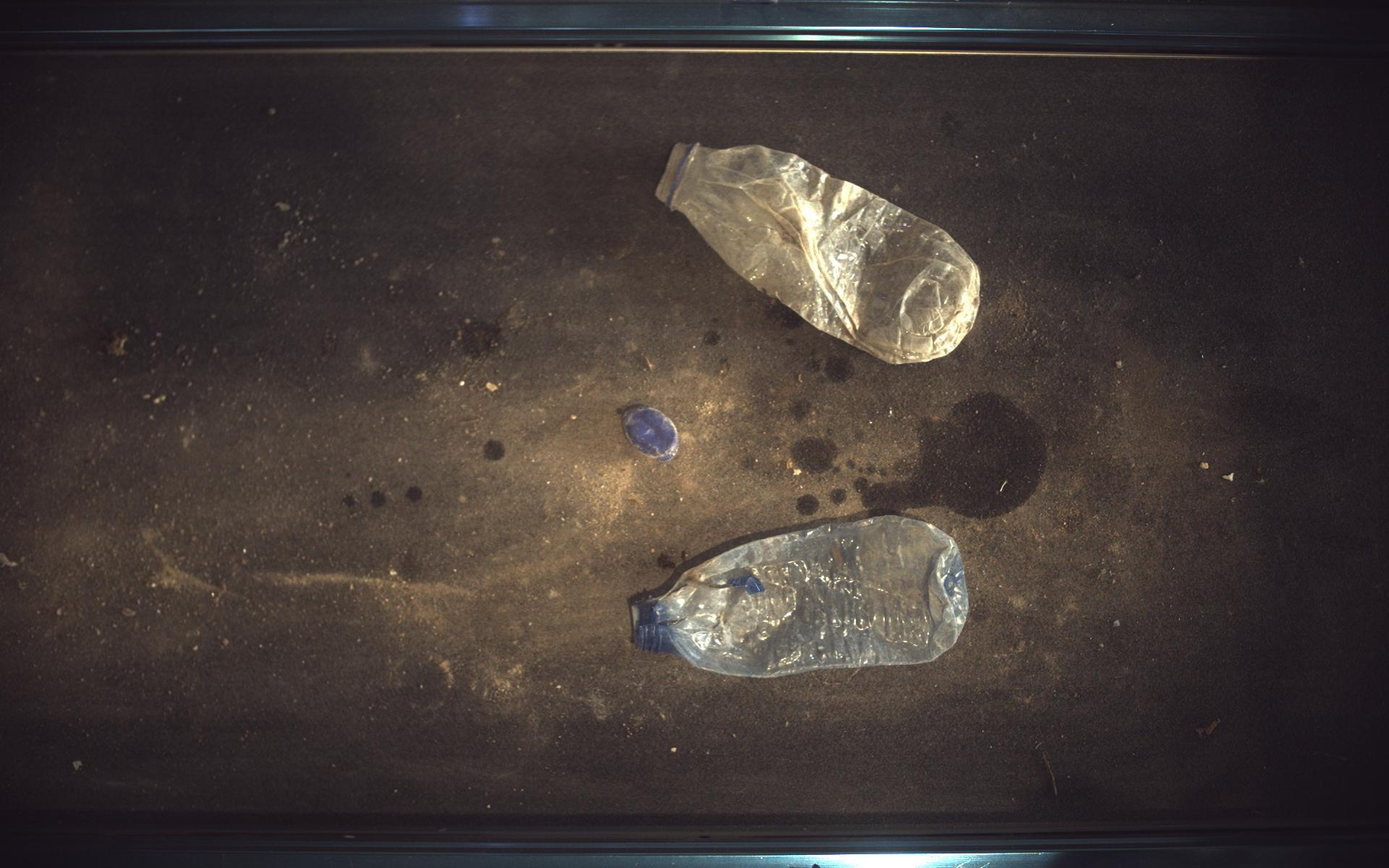general_w: (657, 142, 982, 364), (623, 404, 680, 462)
